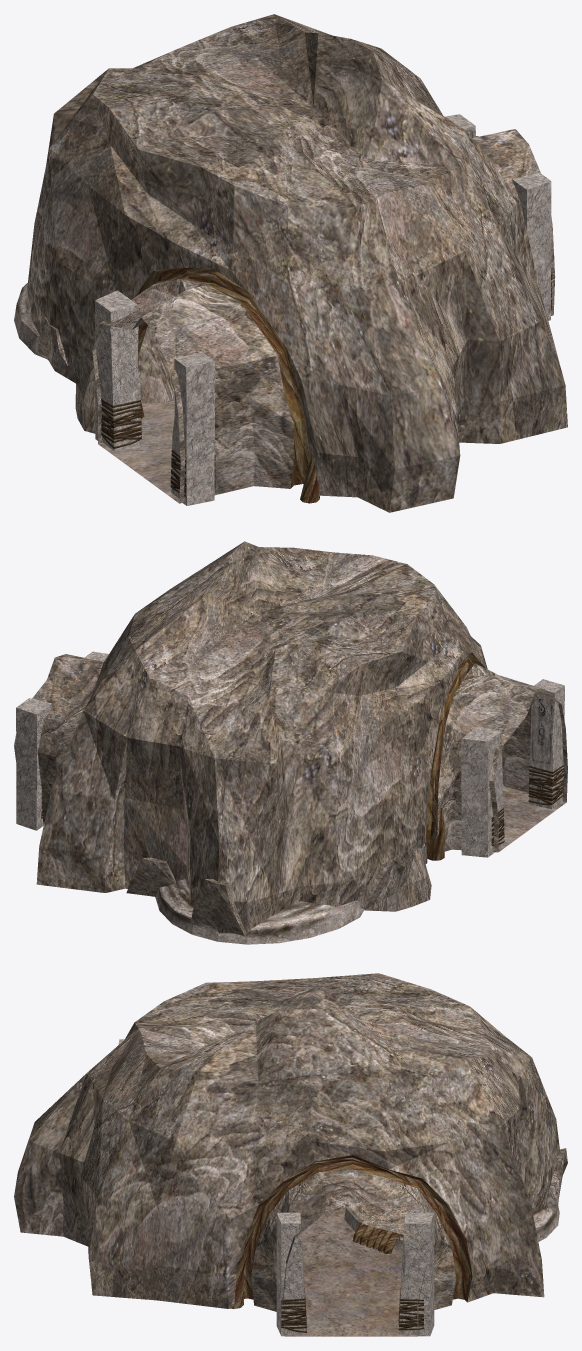
File: thm_dath_mtn_clan_stronghold_r2_guard_mesh_r2.fbx
3 views of the same model, one above another, from view 1: azimuth 30°, elevation 25°; view 2: azimuth 150°, elevation 25°; view 3: azimuth 270°, elevation 25° (orthographic). The views are drawn at different scales.
Parts seen in each view (by area): view 1: mesh_node; view 2: mesh_node; view 3: mesh_node.
Boxes of the visible parts, x1,y1,x2,y2 form: mesh_node: [14, 14, 567, 512]; mesh_node: [14, 541, 567, 944]; mesh_node: [14, 973, 567, 1336].
Size of the model in its own units: 11 by 7.58 by 13.69.
